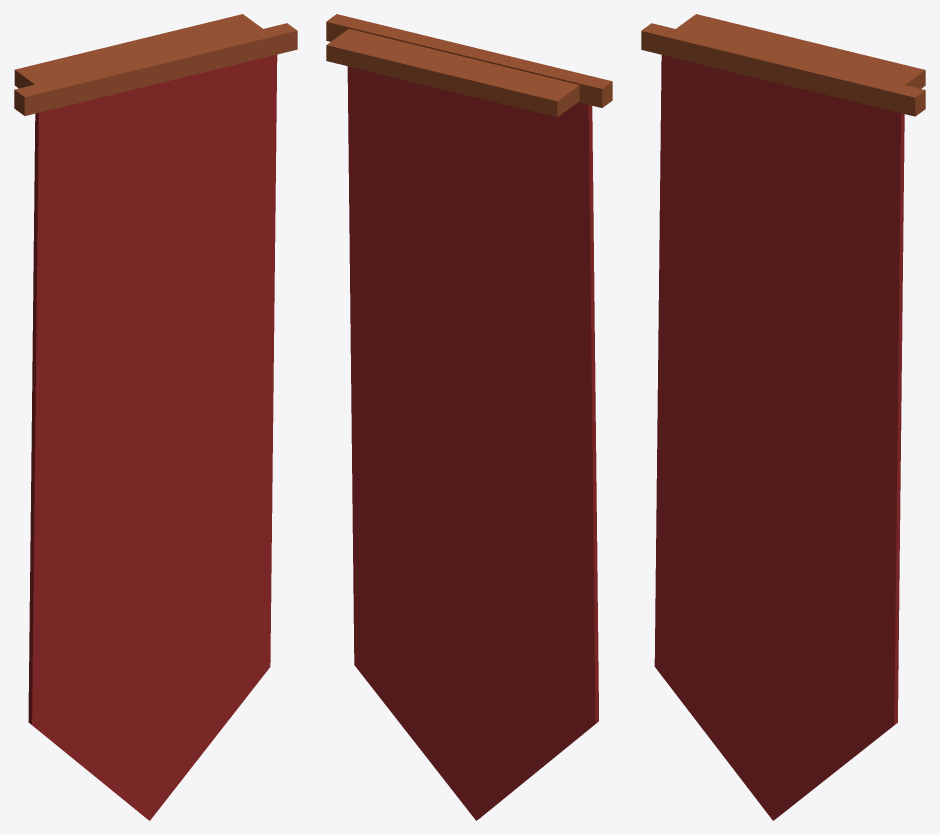
The model's file is Prop_Fantasy_Wall_Banner_Tapestry_Hanging_01.FBX.
3 renders of one model, left to right at view 1: azimuth 30°, elevation 25°; view 2: azimuth 150°, elevation 25°; view 3: azimuth 330°, elevation 25°, orthographic.
Visible parts, largest first — view 1: Prop_Fantasy_Wall_Banner_Tapestry_Hanging_01; view 2: Prop_Fantasy_Wall_Banner_Tapestry_Hanging_01; view 3: Prop_Fantasy_Wall_Banner_Tapestry_Hanging_01.
Part boxes in pixels (left/top/right/bottom): Prop_Fantasy_Wall_Banner_Tapestry_Hanging_01: left=14, top=14, right=297, bottom=820; Prop_Fantasy_Wall_Banner_Tapestry_Hanging_01: left=326, top=14, right=612, bottom=820; Prop_Fantasy_Wall_Banner_Tapestry_Hanging_01: left=641, top=14, right=925, bottom=820.
Size of the model in its own units: 1503 by 3985 by 309.
